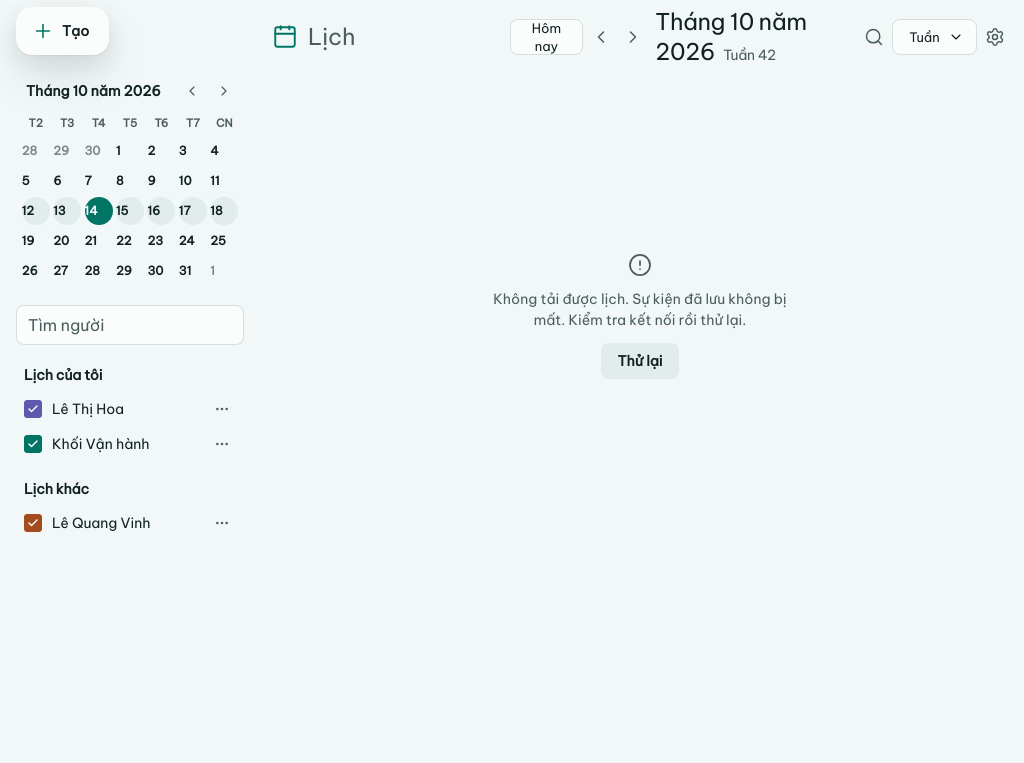
Scenario: states › says the events could not load and tries again
The image size is (1024, 763).
Expected: the message shows "Sự kiện đã lưu không bị mất", [493, 290, 787, 328]
Click the button "Thử lại" at (640, 360), box [601, 342, 679, 378]
(page scrolled)
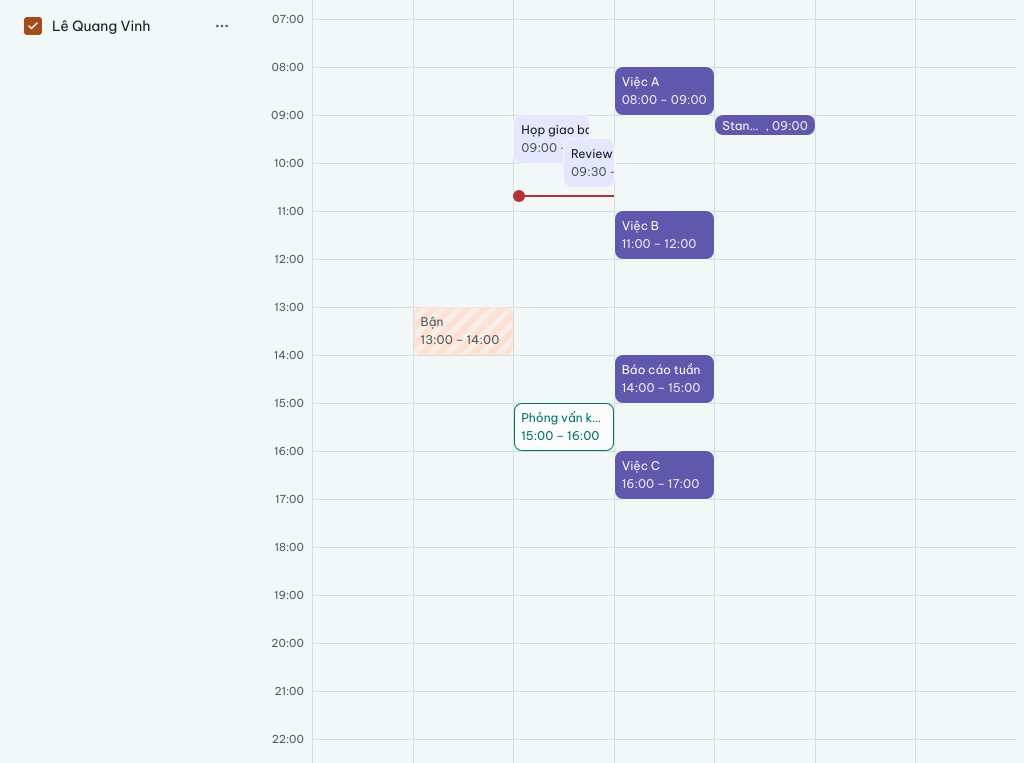
Now the button "Báo cáo tuần 14:00 – 15:00" is shown, box [615, 355, 714, 403]
